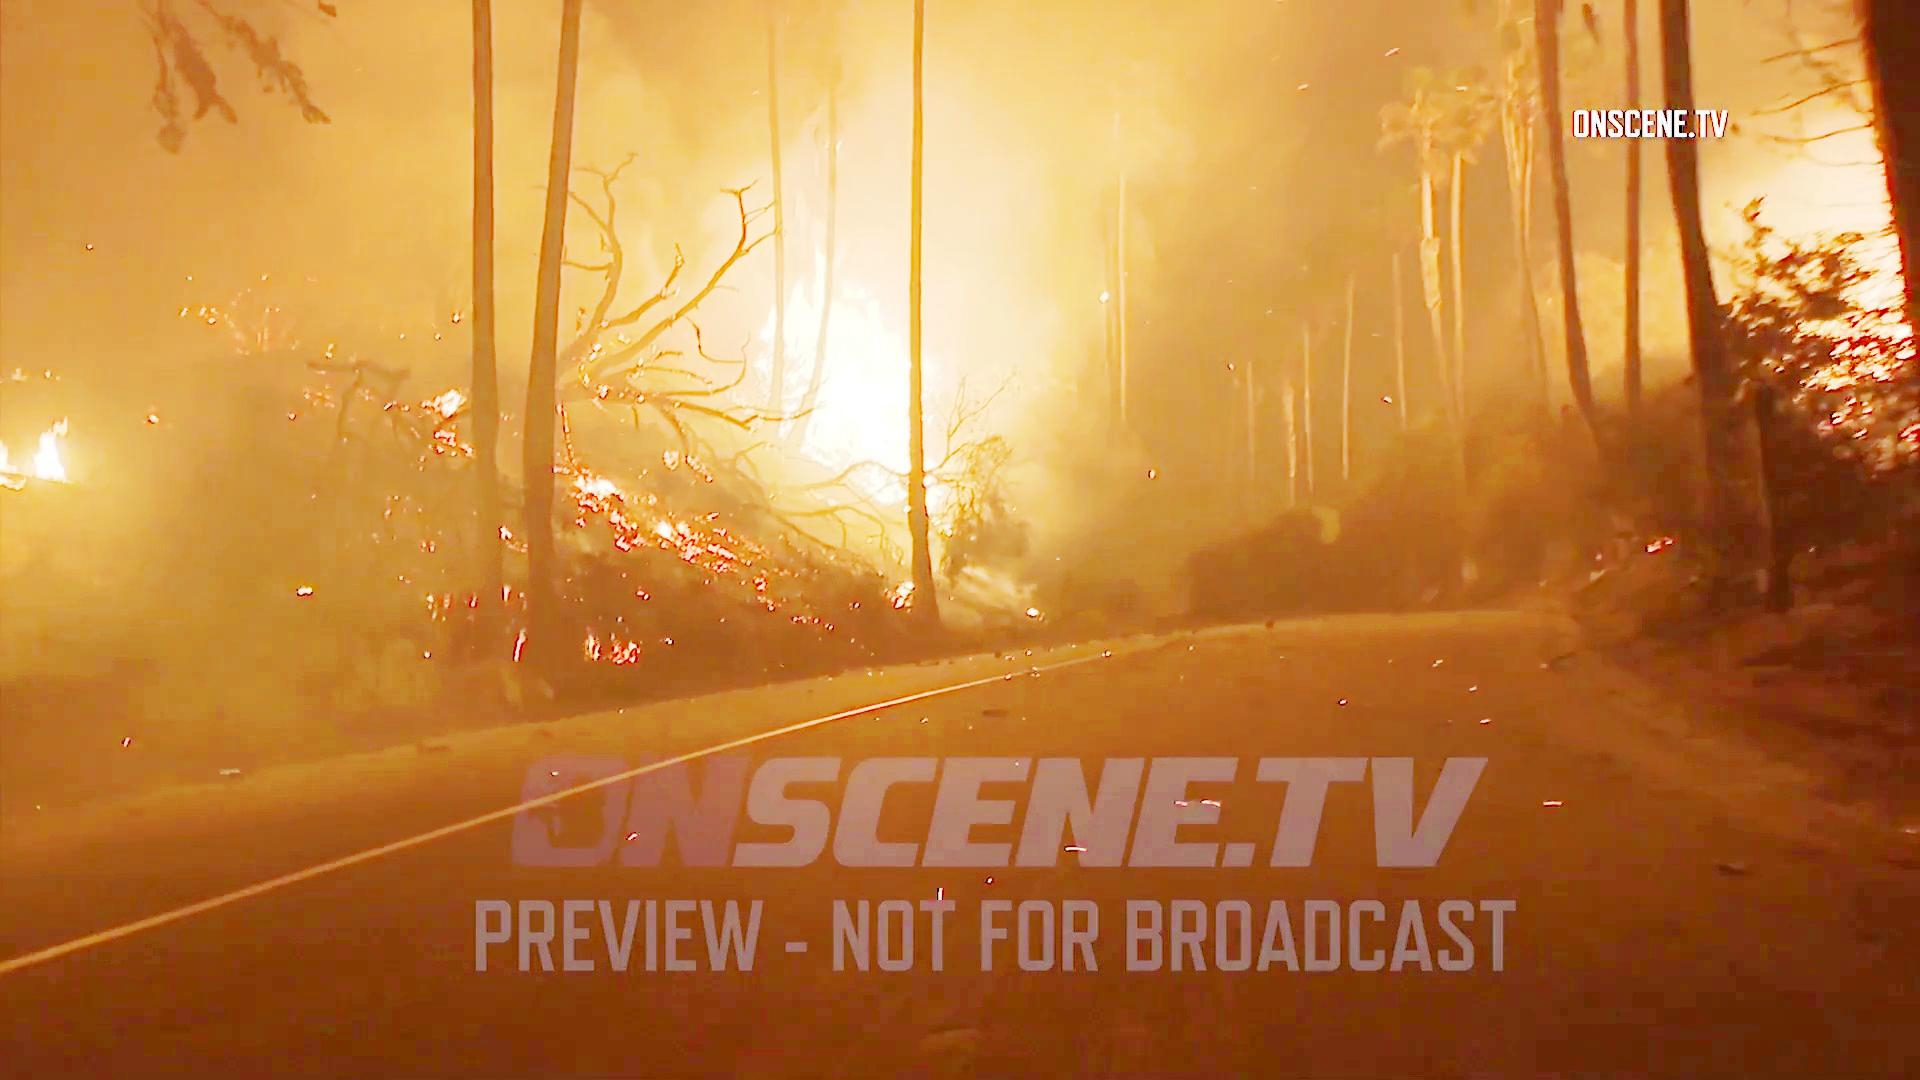fire: (753, 233, 942, 498)
